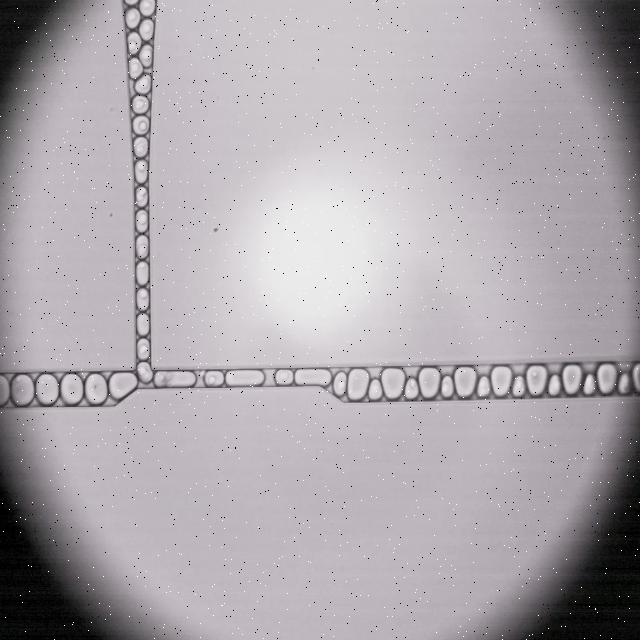L: (137, 362, 153, 384), (134, 74, 151, 93), (334, 372, 347, 396), (128, 32, 142, 54), (132, 95, 149, 113), (133, 115, 149, 134), (133, 137, 148, 157), (134, 160, 147, 183), (136, 262, 149, 285), (139, 19, 153, 40), (404, 378, 418, 399), (204, 371, 223, 386), (126, 8, 140, 28), (136, 235, 148, 258), (137, 339, 150, 360), (512, 376, 525, 397), (548, 374, 561, 395), (583, 374, 596, 395), (275, 370, 293, 385), (139, 44, 151, 66), (136, 210, 148, 232), (129, 58, 142, 78), (369, 380, 382, 400), (477, 376, 490, 396), (140, 0, 156, 16), (137, 289, 149, 310), (137, 314, 149, 335), (441, 376, 453, 397), (136, 187, 147, 207), (622, 375, 630, 393)
S: (11, 374, 34, 406), (110, 372, 137, 399), (382, 368, 405, 399), (110, 373, 137, 399), (61, 373, 83, 404), (36, 374, 58, 405), (154, 371, 196, 387), (85, 374, 107, 404), (454, 367, 476, 397), (348, 369, 369, 400), (295, 369, 331, 387), (526, 365, 547, 395), (225, 370, 264, 386), (419, 368, 439, 399), (562, 364, 582, 395), (491, 367, 512, 396), (597, 364, 617, 394), (0, 374, 9, 406), (632, 364, 640, 392)
